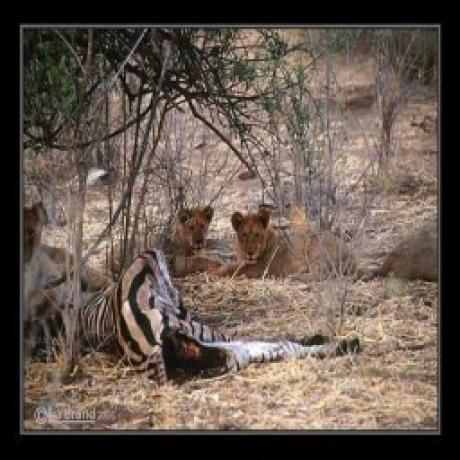Lion: (232, 211, 294, 279), (169, 205, 223, 275)
